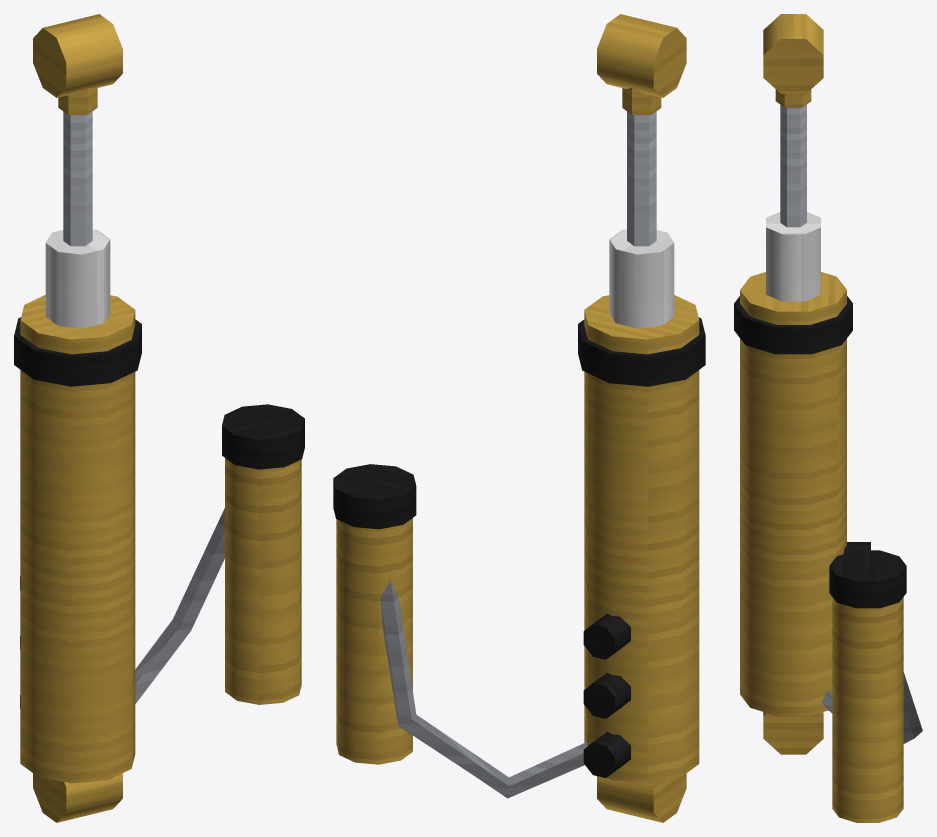
Rendered from amortecedores_especial.glb.
3 renders of one model, left to right at view 1: azimuth 30°, elevation 25°; view 2: azimuth 150°, elevation 25°; view 3: azimuth 270°, elevation 25°, orthographic. The views are drawn at different scales.
Visible parts, largest first — view 1: amortecedores_especial; view 2: amortecedores_especial; view 3: amortecedores_especial.
Part boxes in pixels (box(x1,y1,x2,y2)): amortecedores_especial: box(14, 14, 304, 822); amortecedores_especial: box(333, 14, 705, 822); amortecedores_especial: box(734, 14, 922, 822).
Bounding box in the file's own units: 0.2228 × 0.5307 × 0.1269.
3 materials, 3 textured.
